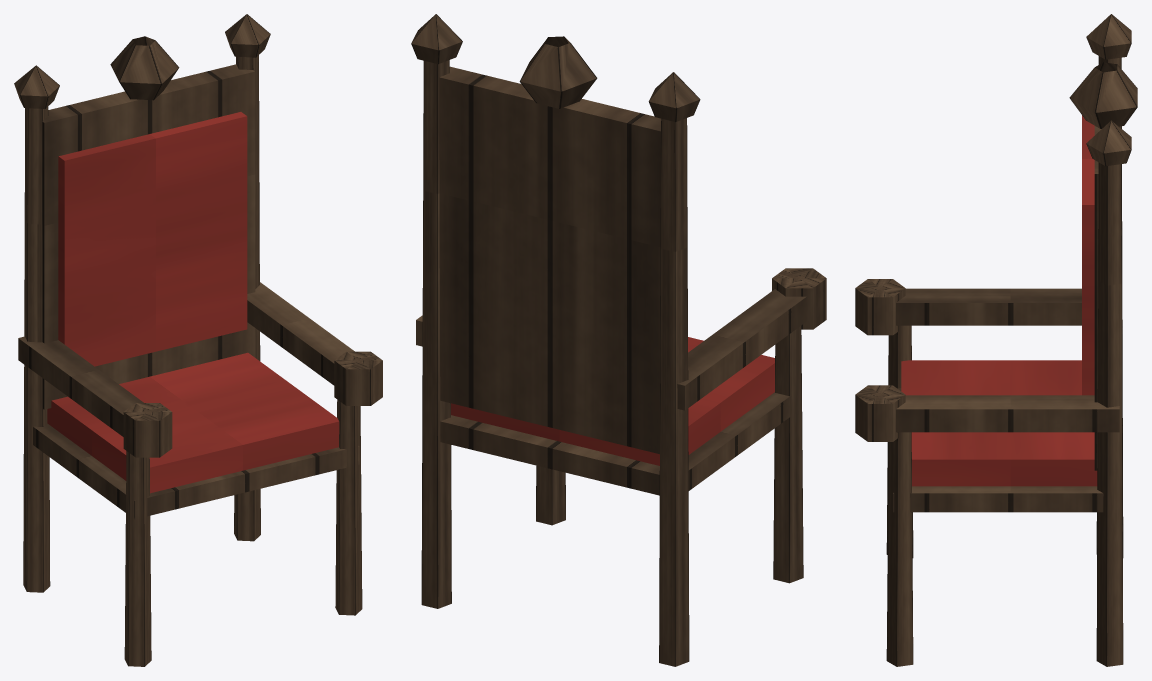
The model's file is Armchair_Carved_1_LOD1.gltf.
3 renders of one model, left to right at view 1: azimuth 30°, elevation 25°; view 2: azimuth 150°, elevation 25°; view 3: azimuth 270°, elevation 25°, orthographic. The views are drawn at different scales.
Parts seen in each view (by area): view 1: Armchair_Carved_1_LOD1; view 2: Armchair_Carved_1_LOD1; view 3: Armchair_Carved_1_LOD1.
Boxes of the visible parts, box(x1,y1,x2,y2) form: Armchair_Carved_1_LOD1: box(14, 14, 382, 666); Armchair_Carved_1_LOD1: box(411, 14, 826, 666); Armchair_Carved_1_LOD1: box(855, 14, 1137, 666).
Bounding box in the file's own units: 0.7141 × 1.42 × 0.6728.
2 materials, 2 textured.
